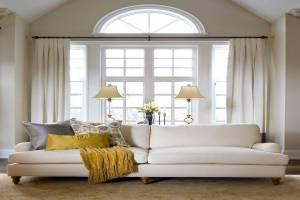window: (68, 5, 231, 125)
